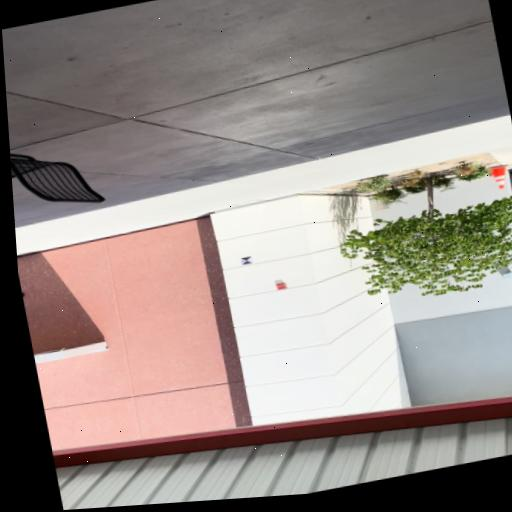target6: (240, 256, 253, 265)
